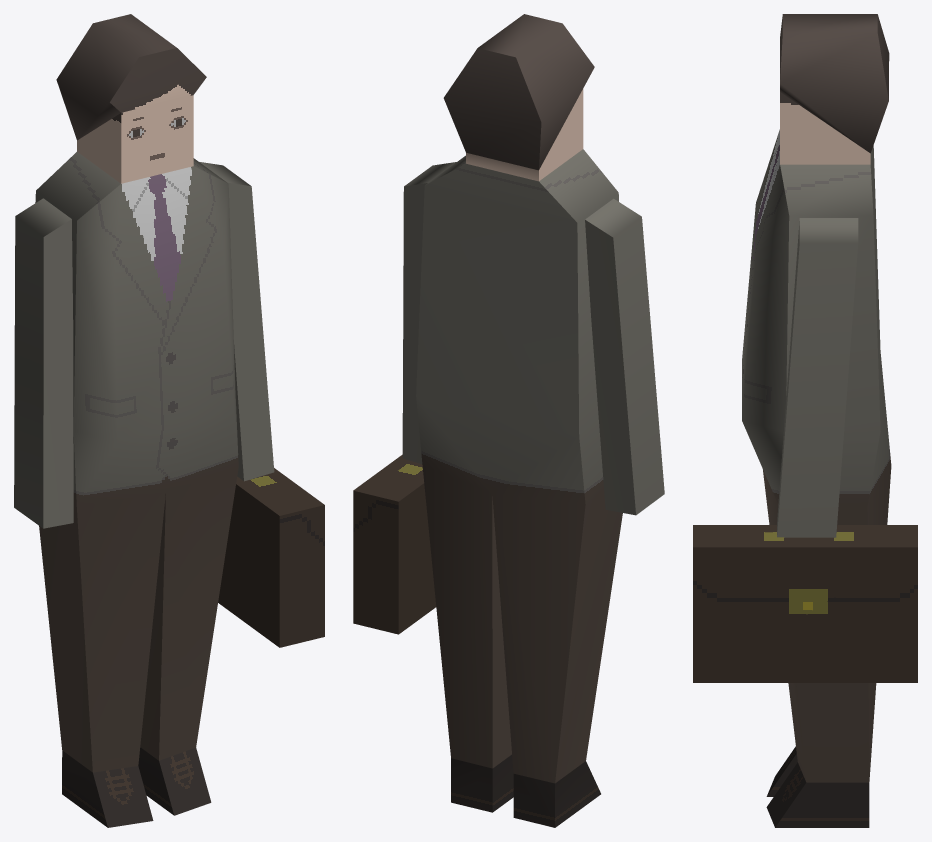
Rendered from 021a_Businessman.glb.
The picture shows the model from 3 angles, left to right: view 1: azimuth 30°, elevation 25°; view 2: azimuth 150°, elevation 25°; view 3: azimuth 270°, elevation 25°; orthographic projection. The views are drawn at different scales.
Visible parts, largest first — view 1: part_0; view 2: part_0; view 3: part_0.
Part boxes in pixels (bbox=[...]): part_0: bbox=[14, 14, 324, 827]; part_0: bbox=[353, 14, 664, 827]; part_0: bbox=[693, 14, 917, 827].
Bounding box in the file's own units: 0.5718 × 1.72 × 0.45.
1 material, 1 textured.
